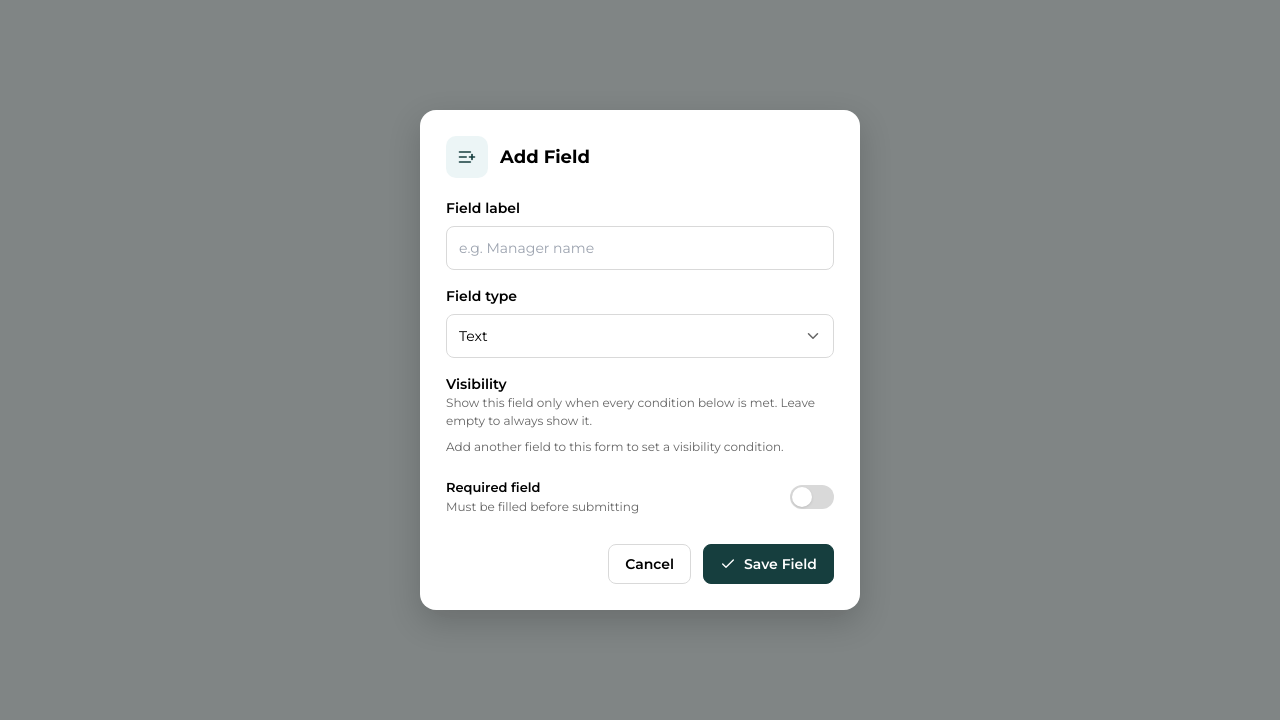
Test: a choice type requires at least one option before saving
Type "Status" into the field labelled "Field label" at (640, 248), box [459,238,821,258]
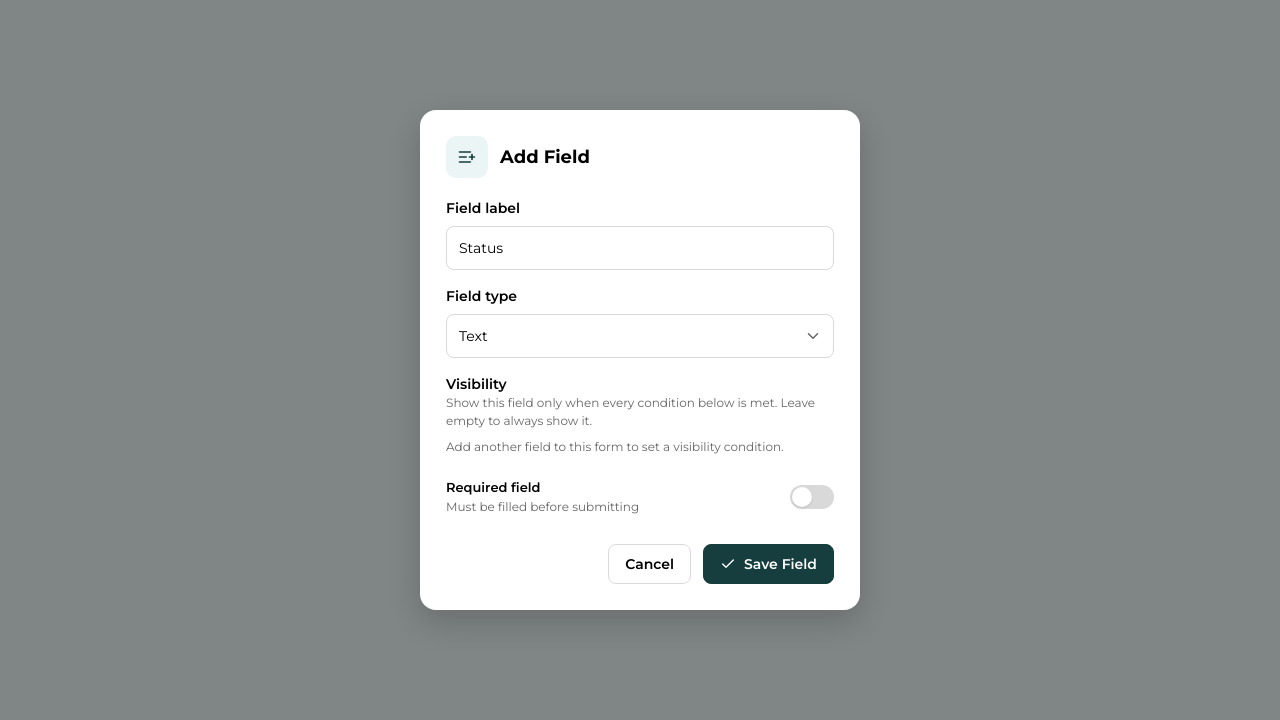
Select "Dropdown" in the dropdown labelled "Field type" at (640, 336), box [446,314,834,358]
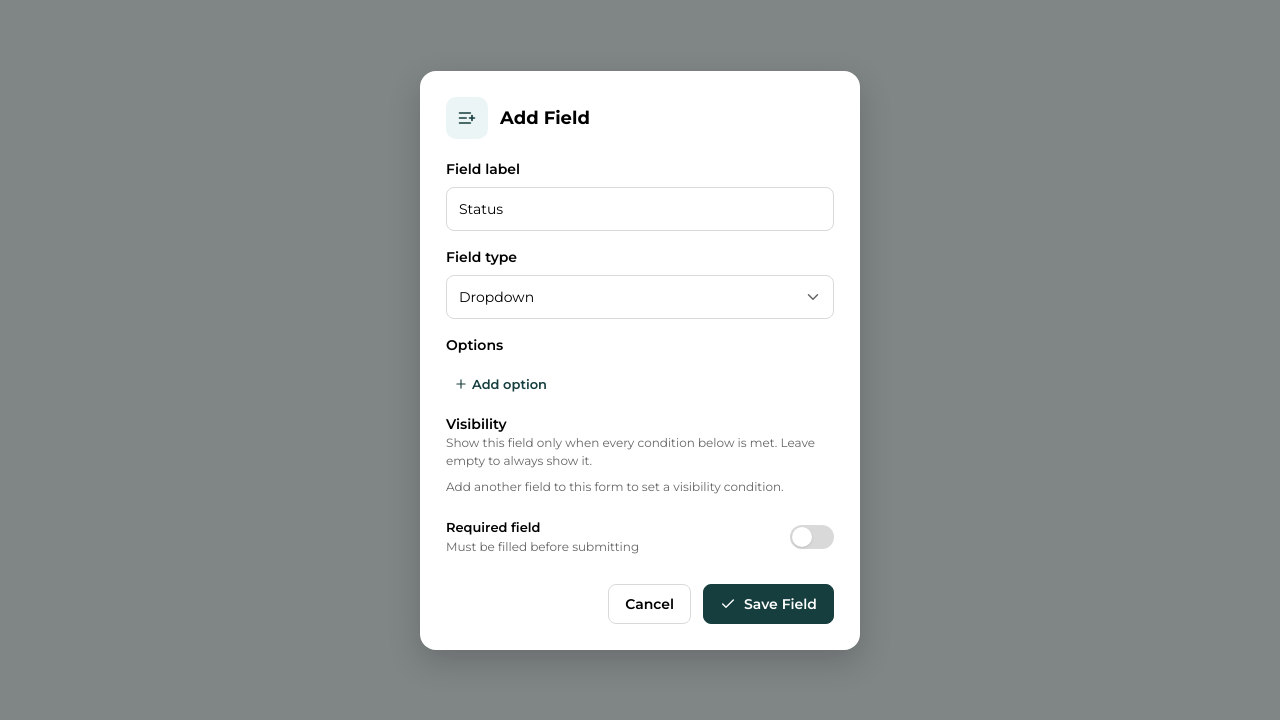
Click the button "Save Field" at (768, 604), box [703,584,834,624]
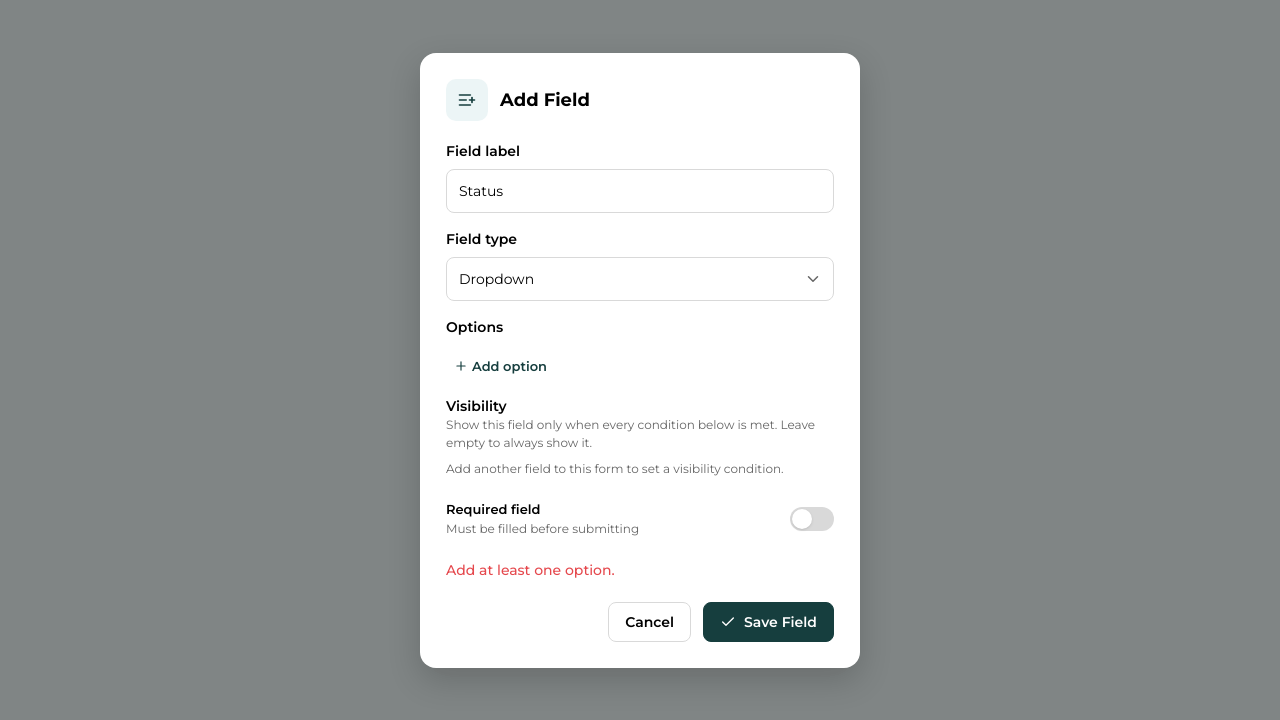
Now the text "Add at least one option." is shown, box [446,560,615,578]
